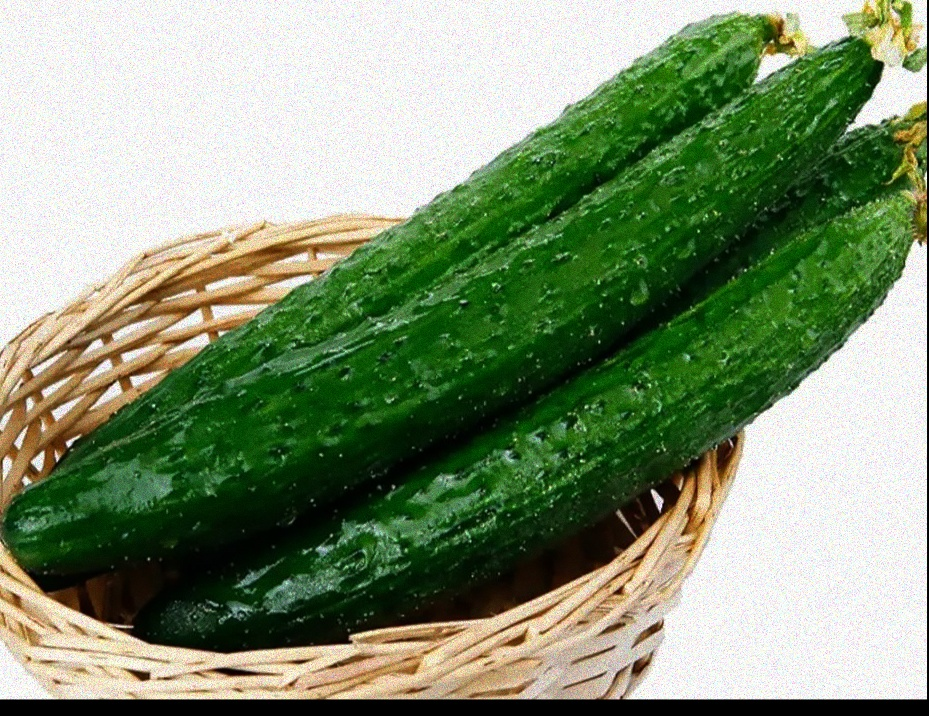cucumber: (24, 39, 886, 569), (181, 199, 916, 673)
